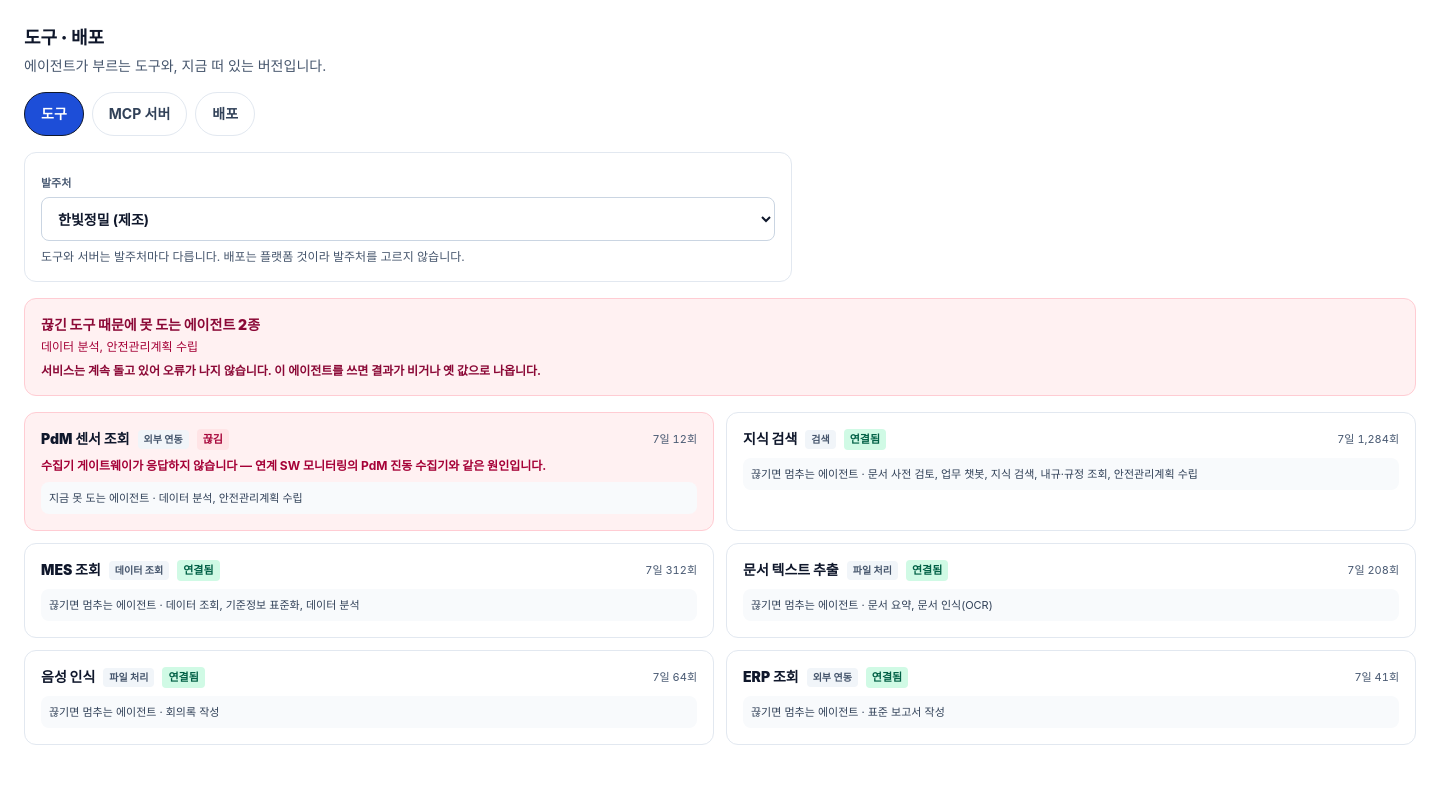
Test case: 태스크플로우 배포 › 에이전트 정의도 배포 대상으로 보여 준다
The image size is (1440, 810).
Click the tab "배포". click: [225, 114]
box: [195,92,255,136]
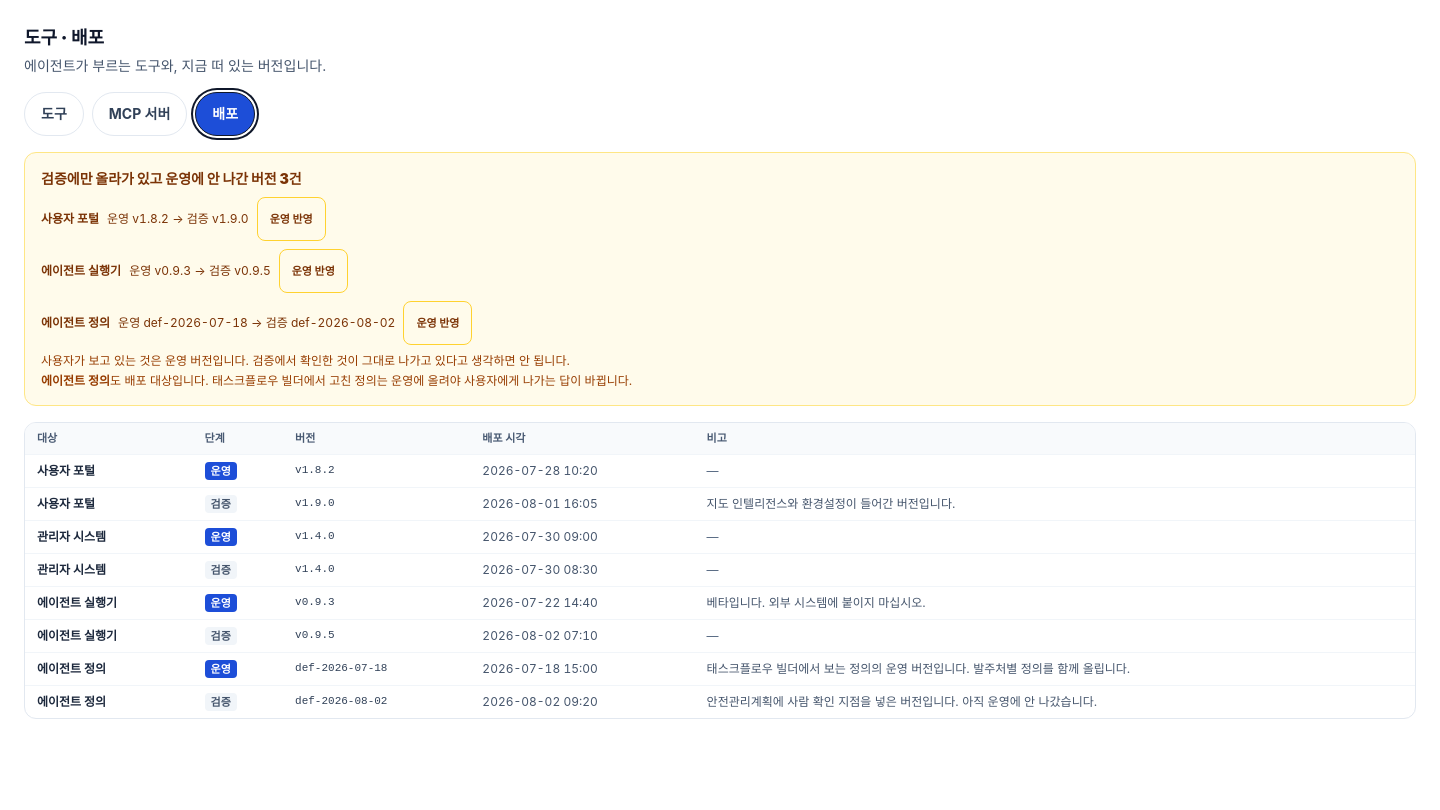
expect the text "태스크플로우 빌더에서 고친 정의는" is shown: met, box [110,373,632,388]
